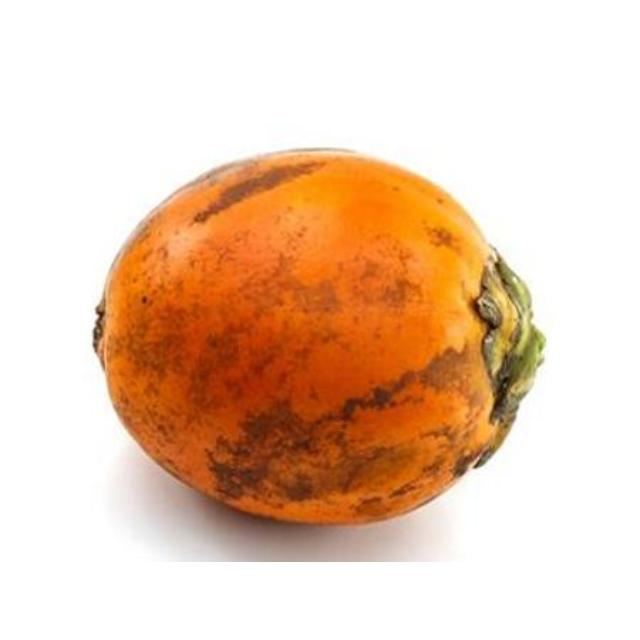good: (94, 148, 543, 522)
